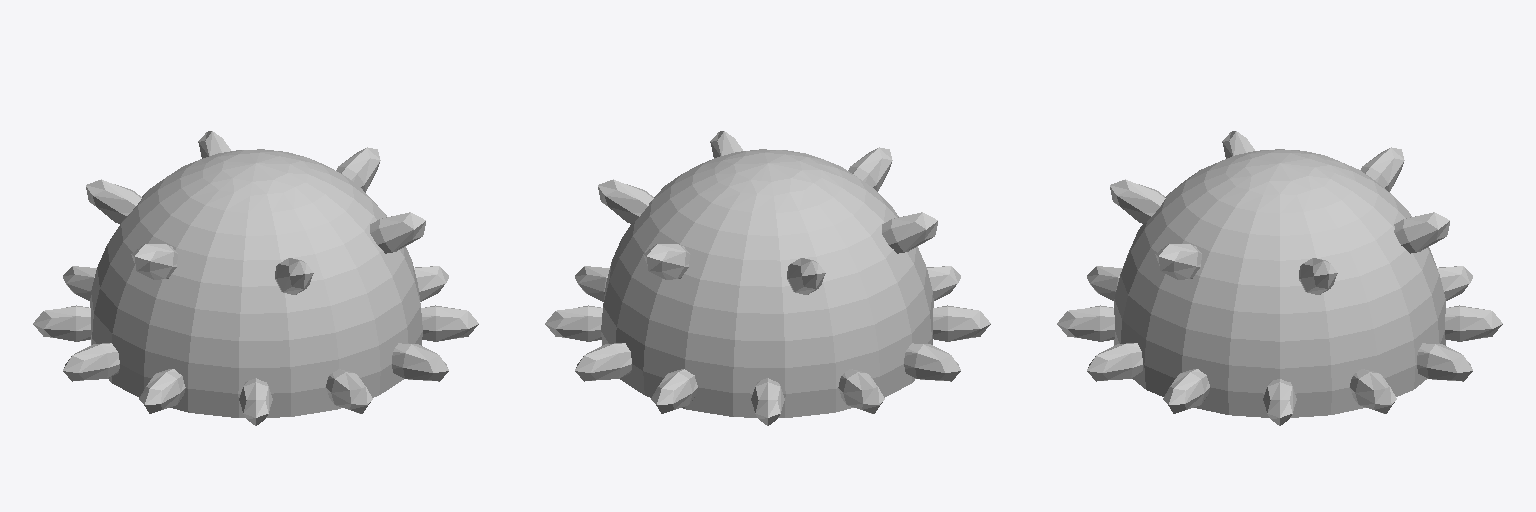
Rendered from cell.obj.
3 views of the same model, side by side, from view 1: azimuth 30°, elevation 25°; view 2: azimuth 150°, elevation 25°; view 3: azimuth 270°, elevation 25° (orthographic).
Parts seen in each view (by area): view 1: pCube35; view 2: pCube35; view 3: pCube35.
Part boxes in pixels (bbox=[...]): pCube35: bbox=[33, 131, 478, 425]; pCube35: bbox=[545, 131, 990, 425]; pCube35: bbox=[1057, 131, 1502, 425].
Size of the model in its own units: 5.54 by 2.54 by 5.54.